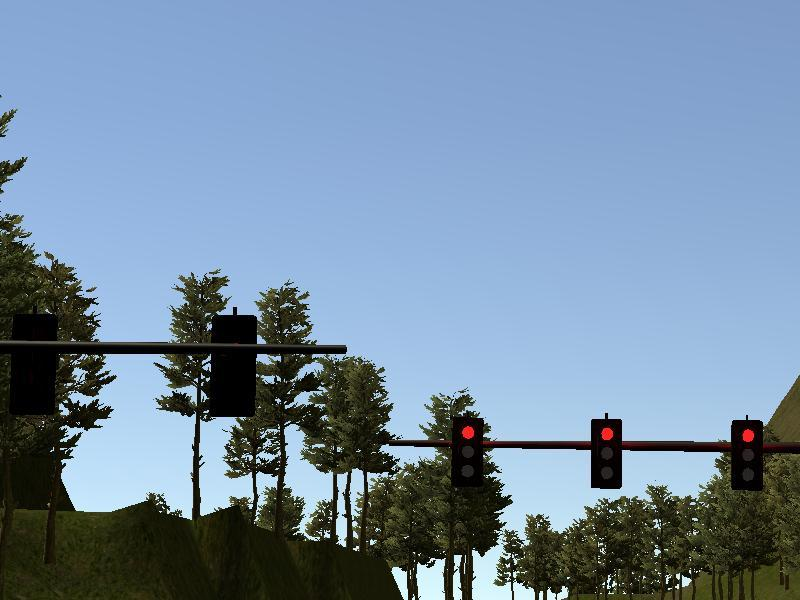Red: (450, 418, 485, 487), (591, 419, 622, 489), (732, 421, 763, 490)
